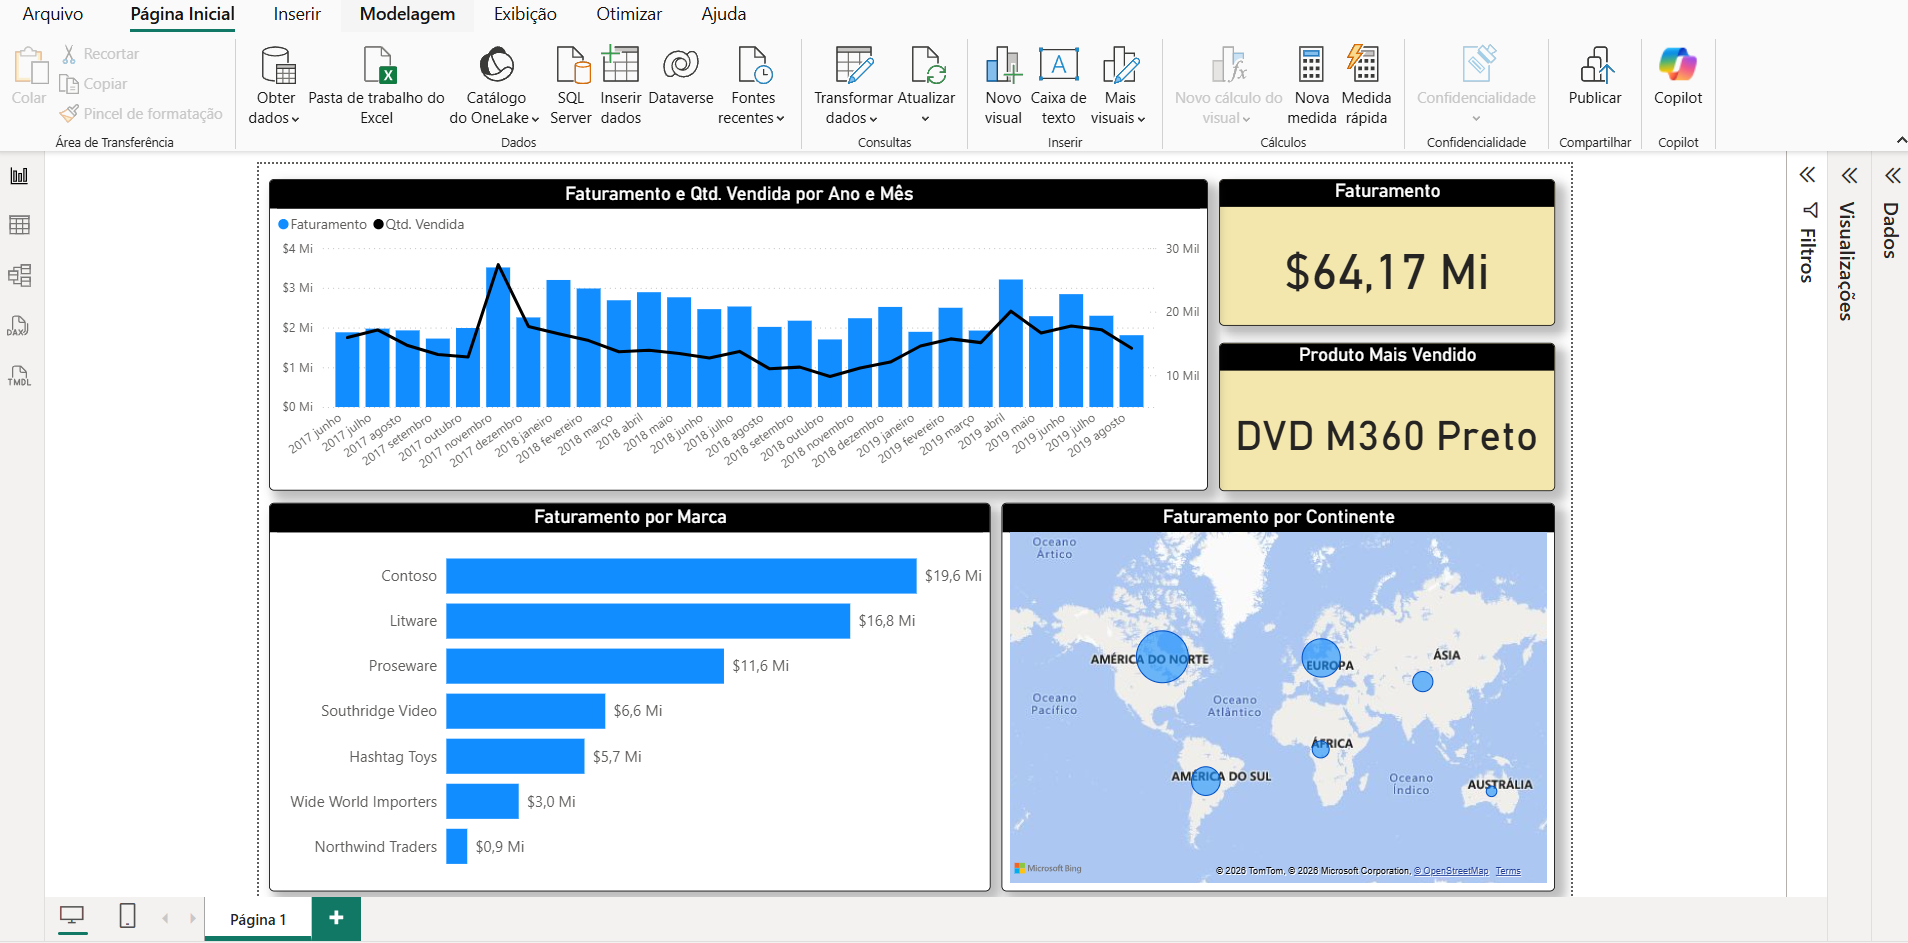

This screenshot's page, from the dashboard's own definition file:
{"tool":"powerbi","page":{"name":"Página 1","canvas":[1280,720],"ordinal":0},"visuals":[{"type":"card","title":"Faturamento","fields":{"Values":["Sum(BaseVendas.Faturamento)"]},"box":[936.6,14.6,327.8,143.4],"z":0},{"type":"card","title":"Produto Mais Vendido","fields":{"Values":["Min(BaseVendas.Produto)"]},"box":[936.6,174.1,327.8,144.9],"z":1},{"type":"barChart","title":"Faturamento por Marca","fields":{"Y":["Sum(BaseVendas.Faturamento)"],"Category":["BaseVendas.Marca"]},"box":[10.2,330.7,703.9,379],"z":2},{"type":"lineStackedColumnComboChart","title":"Faturamento e  Qtd. Vendida por Ano e Mês","fields":{"Category":["BaseVendas.Data da Venda.Variation.Hierarquia de datas.Ano","BaseVendas.Data da Venda.Variation.Hierarquia de datas.Mês"],"Y":["Sum(BaseVendas.Faturamento)"],"Y2":["Sum(BaseVendas.Qtd. Vendida)"]},"box":[10.2,14.6,916.1,304.4],"z":3},{"type":"map","title":"Faturamento por Continente","fields":{"Category":["BaseVendas.Continente"],"Size":["Sum(BaseVendas.Faturamento)"]},"box":[724.4,330.7,540,379],"z":4}]}

Visuals, with their boxes on the page's 1280x720 design canvas (x1, y1, x2, y2). These are canvas units, not pixel positions in the 1908x943 screenshot, which may show the page scaled, cropped or inside an application window:
"Faturamento" card: left=937, top=15, right=1264, bottom=158
"Produto Mais Vendido" card: left=937, top=174, right=1264, bottom=319
"Faturamento por Marca" barChart: left=10, top=331, right=714, bottom=710
"Faturamento e  Qtd. Vendida por Ano e Mês" lineStackedColumnComboChart: left=10, top=15, right=926, bottom=319
"Faturamento por Continente" map: left=724, top=331, right=1264, bottom=710
